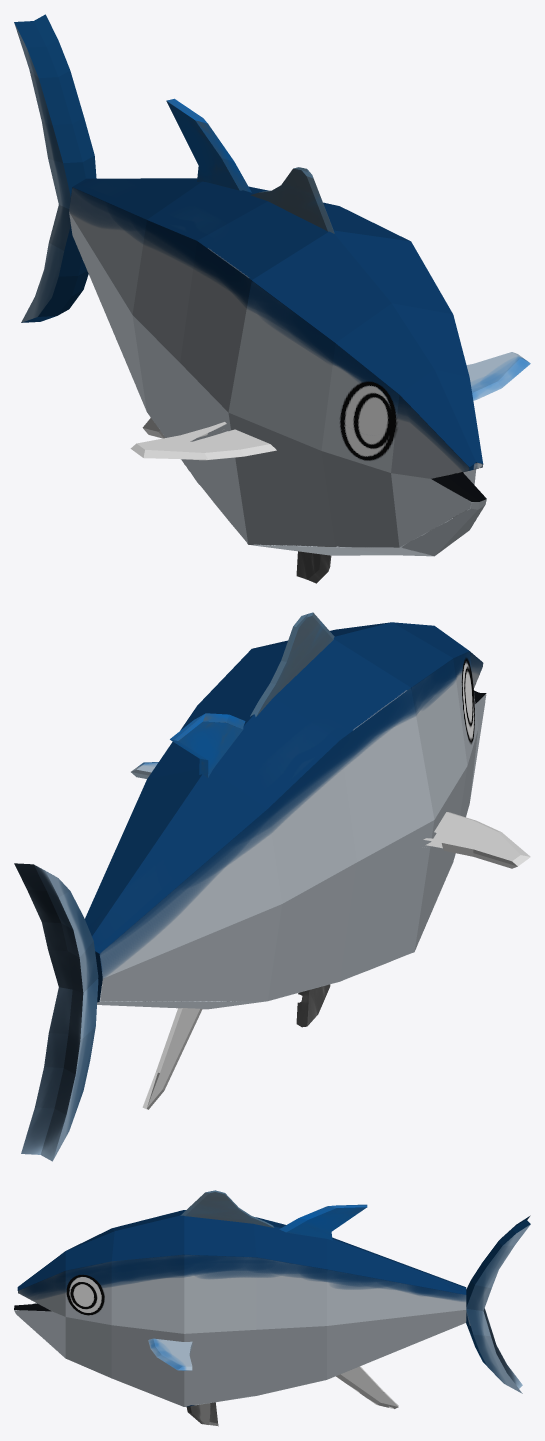
File: maguro_joint.fbx
The picture shows the model from 3 angles, top to bottom: view 1: azimuth 30°, elevation 25°; view 2: azimuth 150°, elevation 25°; view 3: azimuth 270°, elevation 25°; orthographic projection. The views are drawn at different scales.
Parts seen in each view (by area): view 1: body; view 2: body; view 3: body.
Part boxes in pixels (x1=…): body: x1=14, y1=14, x2=530, y2=583; body: x1=14, y1=612, x2=530, y2=1161; body: x1=14, y1=1190, x2=530, y2=1426.
Size of the model in its own units: 3.37 by 3.39 by 6.77.
